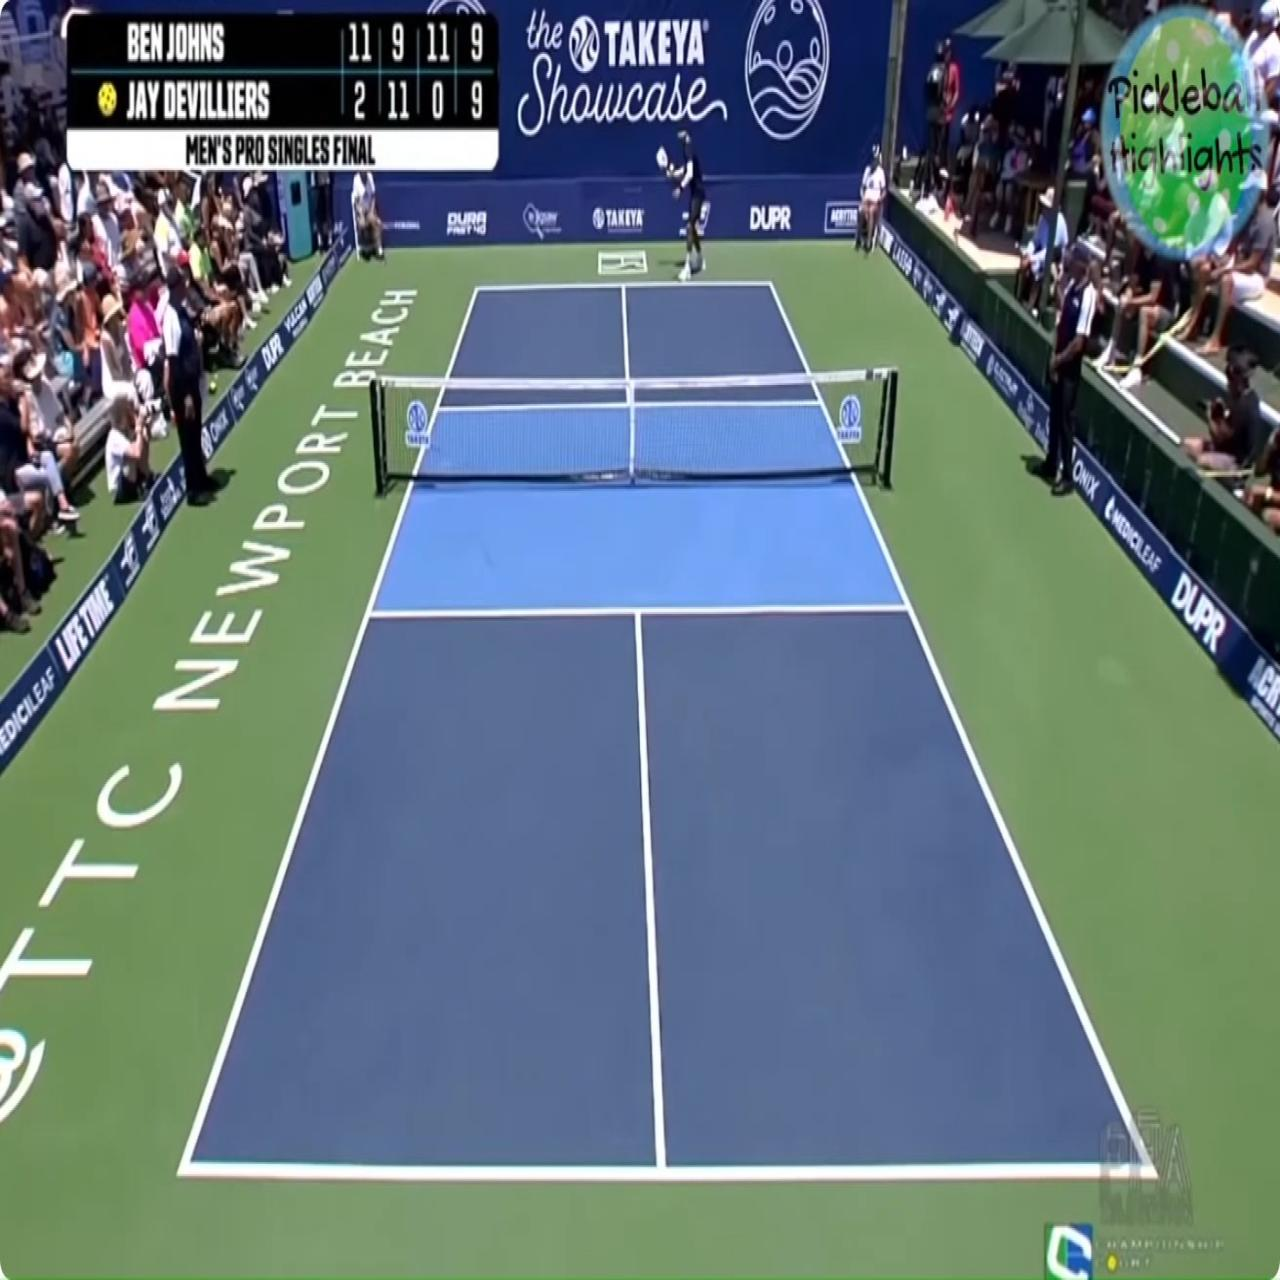pickleball: (669, 162, 674, 172)
